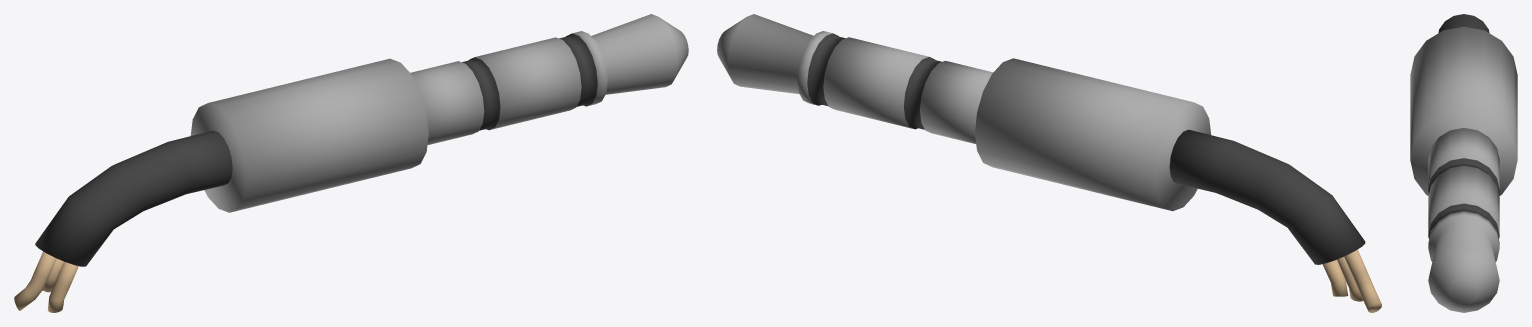
Rendered from AudioJack.fbx.
3 views of the same model, side by side, from view 1: azimuth 30°, elevation 25°; view 2: azimuth 150°, elevation 25°; view 3: azimuth 270°, elevation 25° (orthographic). The views are drawn at different scales.
Visible parts, largest first — view 1: Cube; view 2: Cube; view 3: Cube.
Part boxes in pixels (box(x1,y1,x2,y2)): Cube: box(14, 14, 688, 312); Cube: box(717, 14, 1381, 312); Cube: box(1410, 14, 1517, 312).
Bounding box in the file's own units: 2048 × 466 × 300.
